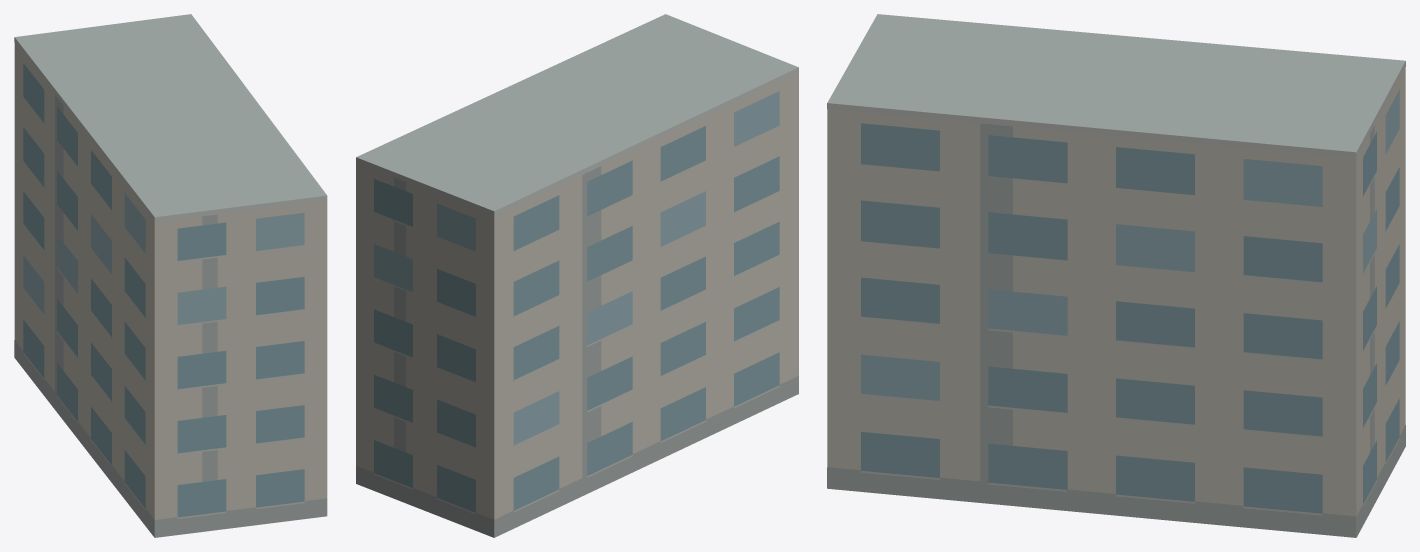
File: residential-81e36060-3e8e-4cee-ab9e-723c9fd2a1e0.glb
3 views of the same model, side by side, from view 1: azimuth 30°, elevation 25°; view 2: azimuth 150°, elevation 25°; view 3: azimuth 270°, elevation 25° (orthographic). The views are drawn at different scales.
Parts seen in each view (by area): view 1: residential-81e36060-3e8e-4cee-ab9e-723c9fd2a1e0.tmp; view 2: residential-81e36060-3e8e-4cee-ab9e-723c9fd2a1e0.tmp; view 3: residential-81e36060-3e8e-4cee-ab9e-723c9fd2a1e0.tmp.
Boxes of the visible parts, box(x1,y1,x2,y2) form: residential-81e36060-3e8e-4cee-ab9e-723c9fd2a1e0.tmp: box(14, 14, 327, 537); residential-81e36060-3e8e-4cee-ab9e-723c9fd2a1e0.tmp: box(356, 14, 798, 537); residential-81e36060-3e8e-4cee-ab9e-723c9fd2a1e0.tmp: box(827, 14, 1405, 537).
Size of the model in its own units: 11.74 by 15.25 by 20.75.
